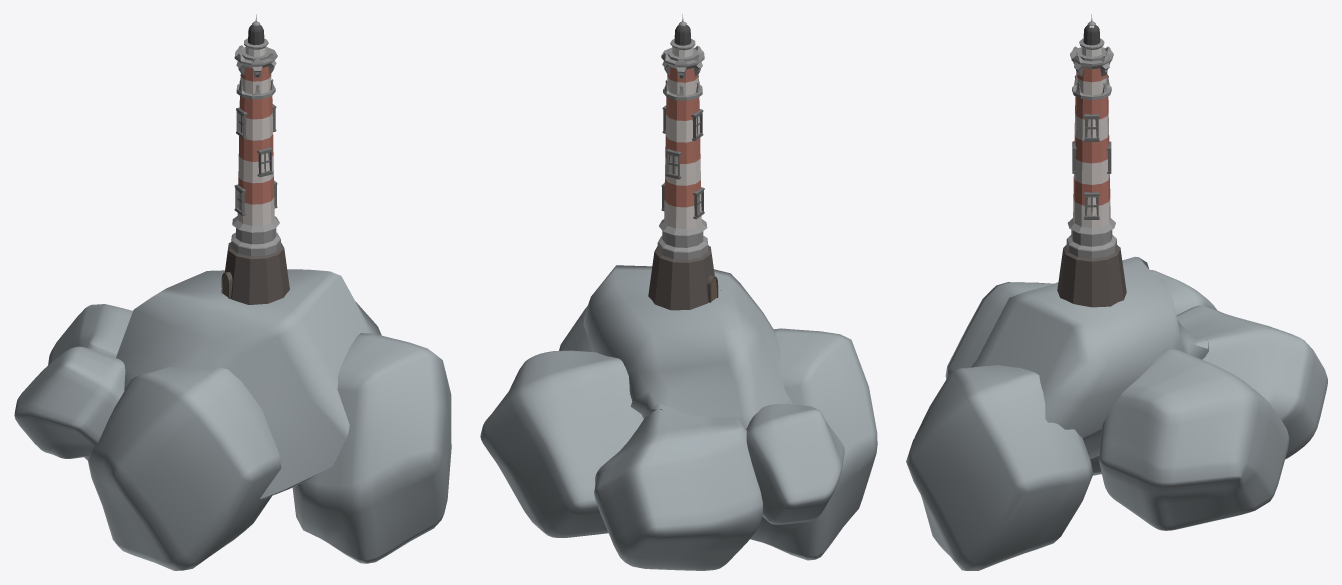
The model's file is Lighthouse Coloured with Rocks.fbx.
The picture shows the model from 3 angles, left to right: view 1: azimuth 30°, elevation 25°; view 2: azimuth 150°, elevation 25°; view 3: azimuth 270°, elevation 25°; orthographic projection.
Parts seen in each view (by area): view 1: pasted__pPlatonic2, pasted__pPlatonic1, pasted__pPlatonic4, pCylinder1, pasted__pPlatonic3, pasted__pPlatonic6; view 2: pasted__pPlatonic6, pasted__pPlatonic1, pasted__pPlatonic5, pasted__pPlatonic2, pCylinder1, pasted__pPlatonic3, pasted__pPlatonic4; view 3: pasted__pPlatonic4, pasted__pPlatonic5, pasted__pPlatonic1, pCylinder1, pasted__pPlatonic6, pasted__pPlatonic2, pasted__pPlatonic3.
Part boxes in pixels (x1,y1,x2,y2): pasted__pPlatonic2: [88, 366, 281, 570]; pasted__pPlatonic1: [116, 269, 381, 498]; pasted__pPlatonic4: [292, 333, 451, 563]; pCylinder1: [224, 14, 289, 304]; pasted__pPlatonic3: [14, 346, 125, 458]; pasted__pPlatonic6: [48, 304, 132, 460]; pasted__pPlatonic6: [594, 404, 763, 570]; pasted__pPlatonic1: [583, 265, 792, 428]; pasted__pPlatonic5: [480, 350, 643, 537]; pasted__pPlatonic2: [750, 328, 877, 560]; pCylinder1: [648, 14, 714, 310]; pasted__pPlatonic3: [746, 404, 844, 524]; pasted__pPlatonic4: [559, 306, 592, 351]; pasted__pPlatonic4: [906, 365, 1093, 570]; pasted__pPlatonic5: [1099, 348, 1289, 530]; pasted__pPlatonic1: [971, 256, 1208, 458]; pCylinder1: [1057, 14, 1126, 307]; pasted__pPlatonic6: [1176, 305, 1327, 459]; pasted__pPlatonic2: [945, 282, 1101, 475]; pasted__pPlatonic3: [1150, 270, 1216, 315].
Bounding box in the file's own units: 30.35 × 41.65 × 31.24.
